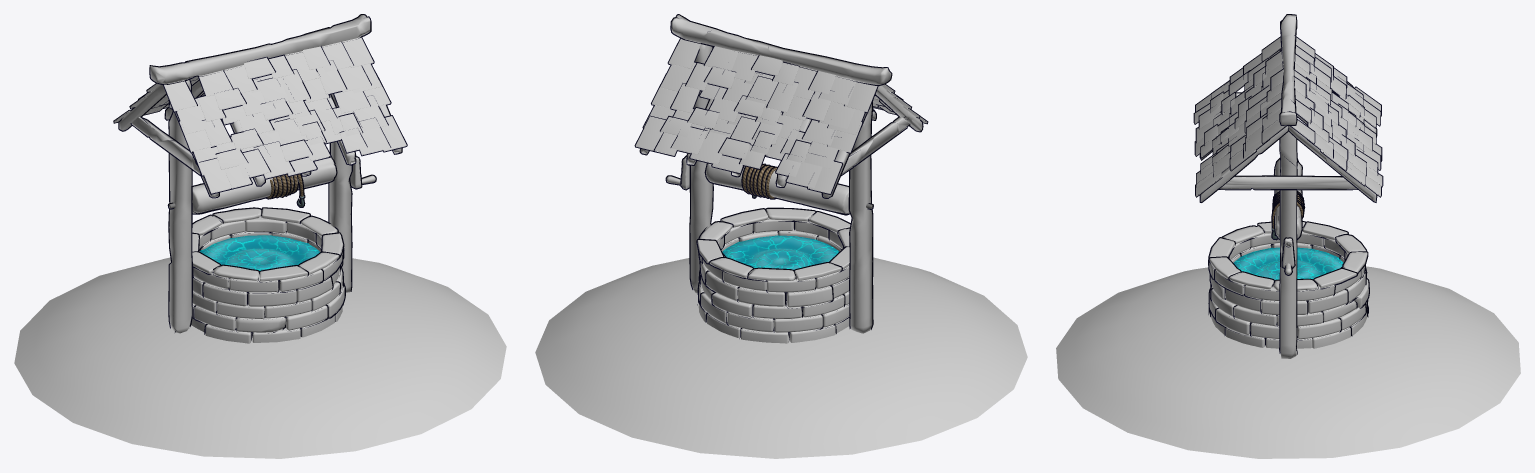
The picture shows the model from 3 angles, left to right: view 1: azimuth 30°, elevation 25°; view 2: azimuth 150°, elevation 25°; view 3: azimuth 270°, elevation 25°; orthographic projection. The views are drawn at different scales.
Parts seen in each view (by area): view 1: Ground, Shingles, Bricks, Wood, Outline, Water, RopeMiddle; view 2: Ground, Shingles, Bricks, Wood, Outline, Water, RopeMiddle; view 3: Ground, Shingles, Bricks, Wood, Outline, Water.
Boxes of the visible parts, box(x1,y1,x2,y2) form: Ground: box(14, 257, 506, 458); Shingles: box(114, 36, 406, 193); Bricks: box(191, 208, 344, 343); Wood: box(119, 15, 401, 333); Outline: box(113, 14, 407, 340); Water: box(200, 235, 319, 270); RopeMiddle: box(169, 159, 359, 208); Ground: box(535, 257, 1027, 458); Shingles: box(635, 39, 927, 193); Bricks: box(697, 209, 850, 343); Wood: box(640, 15, 922, 333); Outline: box(634, 14, 928, 340); Water: box(722, 235, 839, 269); RopeMiddle: box(682, 159, 872, 208); Ground: box(1056, 266, 1520, 458); Shingles: box(1194, 37, 1382, 196); Bricks: box(1209, 222, 1368, 348); Wood: box(1200, 15, 1376, 358); Outline: box(1193, 14, 1383, 354); Water: box(1234, 247, 1343, 279).
Size of the model in its own units: 0.0848 by 0.0599 by 0.0848.
